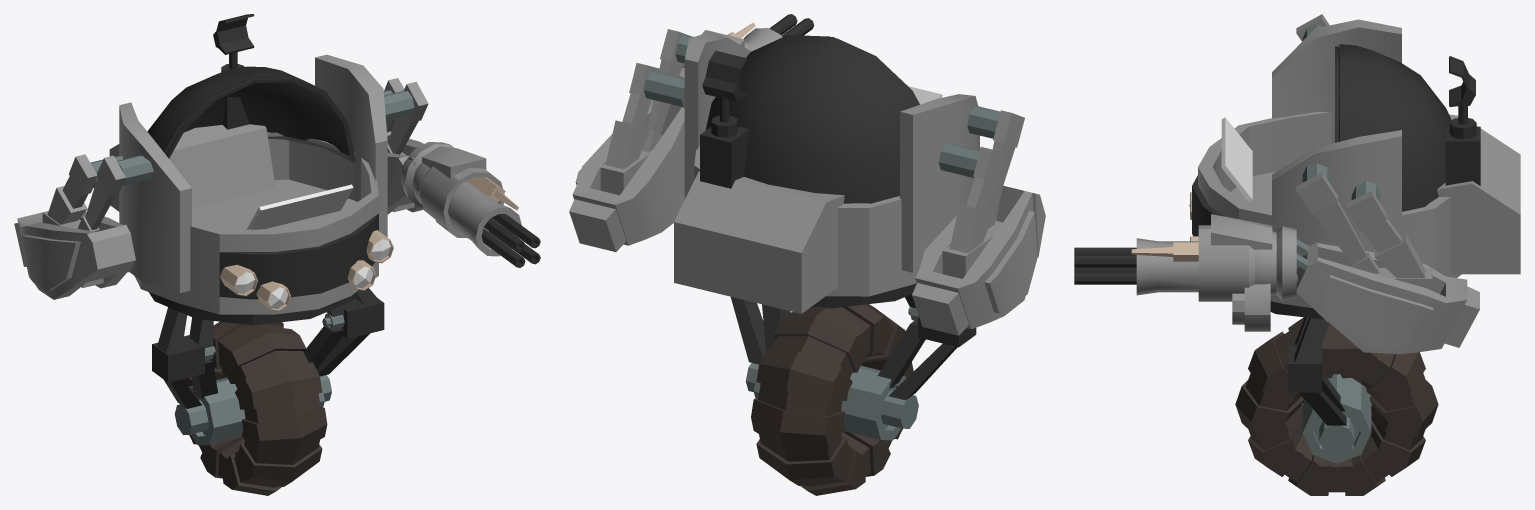
Rendered from RoboGra_zaj.fbx.
The picture shows the model from 3 angles, left to right: view 1: azimuth 30°, elevation 25°; view 2: azimuth 150°, elevation 25°; view 3: azimuth 270°, elevation 25°; orthographic projection. The views are drawn at different scales.
Visible parts, largest first — view 1: robot, robot.002, Cube, antena; view 2: robot, antena, robot.002; view 3: robot, robot.002, antena, Cube.
Part boxes in pixels (left/top/right/bottom): robot: left=14, top=54, right=428, bottom=495; robot.002: left=400, top=142, right=540, bottom=267; Cube: left=246, top=184, right=353, bottom=229; antena: left=213, top=14, right=254, bottom=129; robot: left=569, top=29, right=1045, bottom=495; antena: left=700, top=50, right=749, bottom=188; robot.002: left=652, top=14, right=814, bottom=107; robot: left=1189, top=14, right=1520, bottom=495; robot.002: left=1074, top=214, right=1308, bottom=331; antena: left=1445, top=56, right=1480, bottom=185; Cube: left=1221, top=117, right=1252, bottom=201.
Size of the model in its own units: 669 by 692 by 623.
